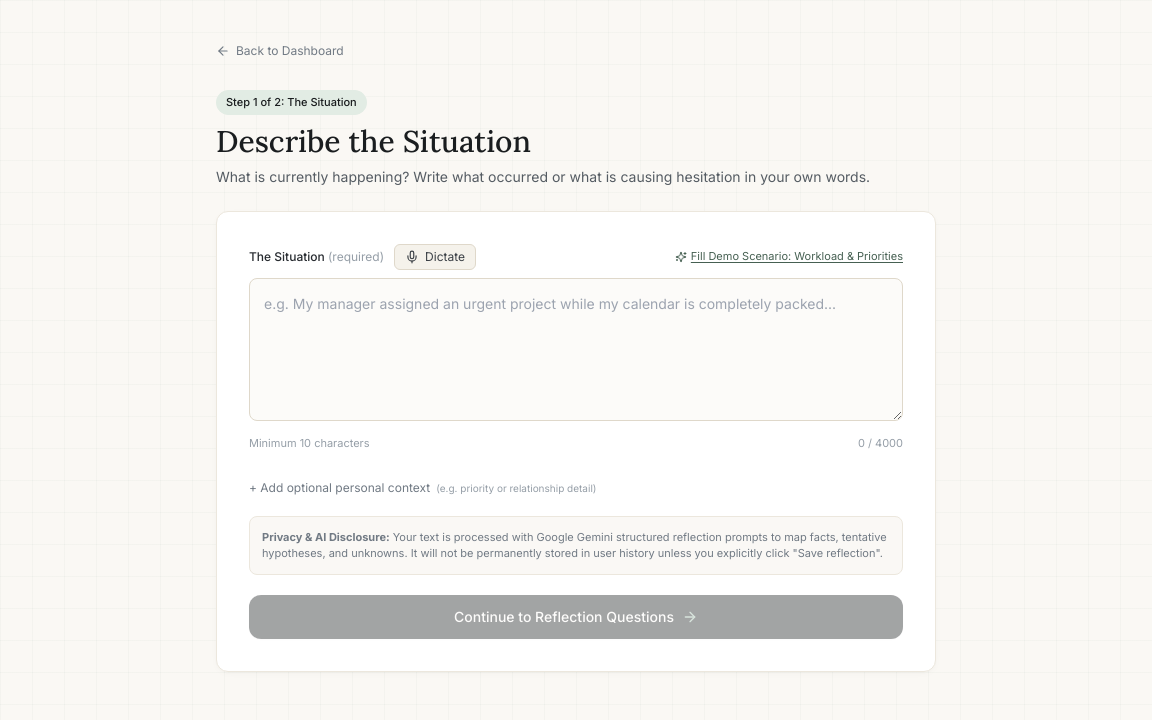
Test: SituationEntryPage — Speech-to-Text Dictation › starts and stops speech recognition via microphone button with clear listening indicator
Click the button with aria-label "Dictate situation with microphone".
click(435, 256)  # box x1=394 y1=244 x2=476 y2=270
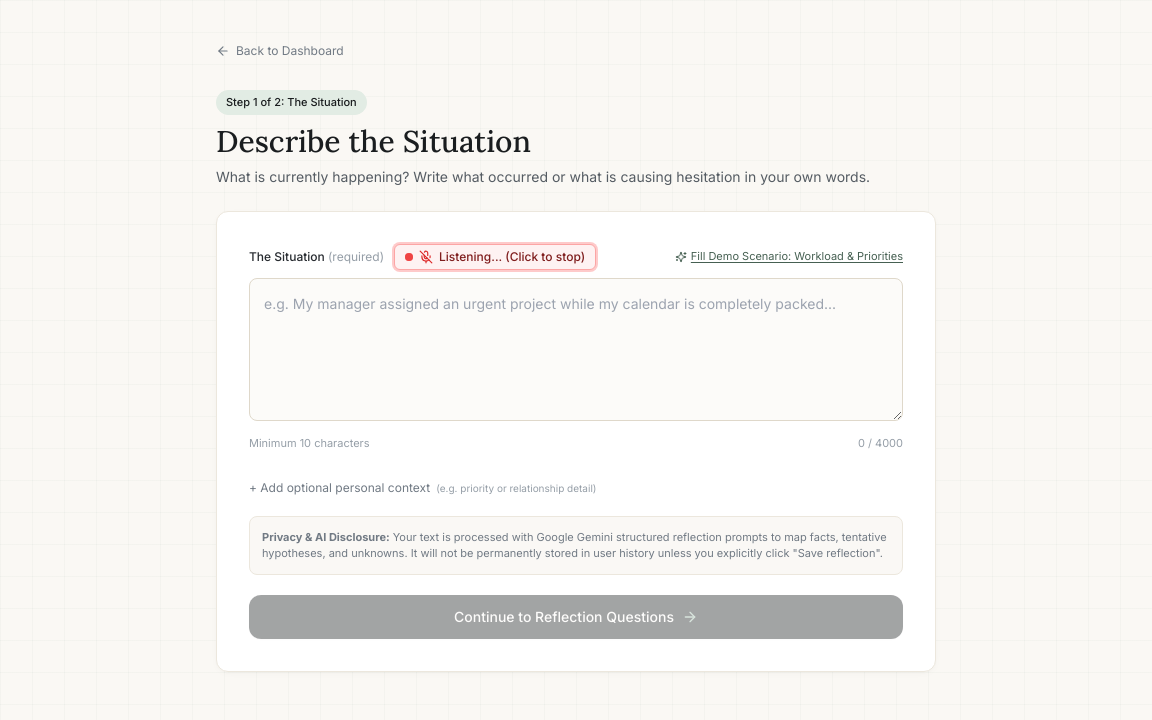
Result: the button with aria-label "Stop voice dictation" is shown
Result: the button with aria-label "Stop voice dictation" reads "Listening... (Click to stop)"
# User clicks stop
Click the button with aria-label "Stop voice dictation".
click(495, 256)  # box x1=394 y1=244 x2=596 y2=270
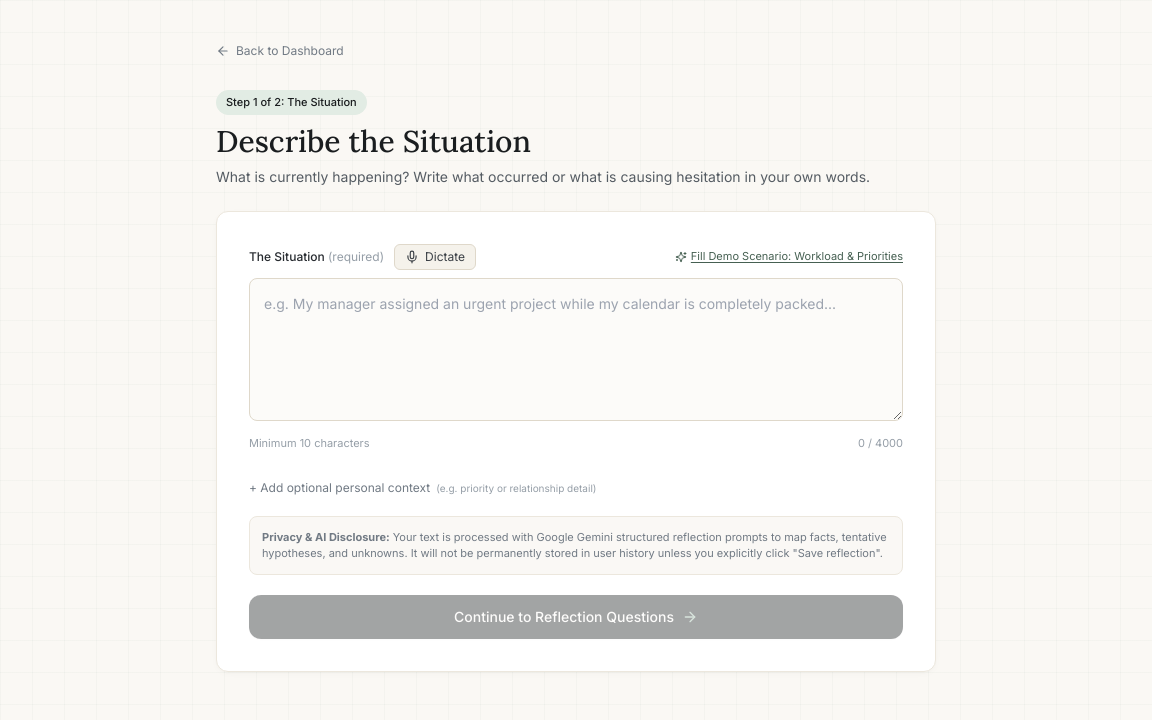
Result: the button with aria-label "Dictate situation with microphone" is shown at x1=394 y1=244 x2=476 y2=270
